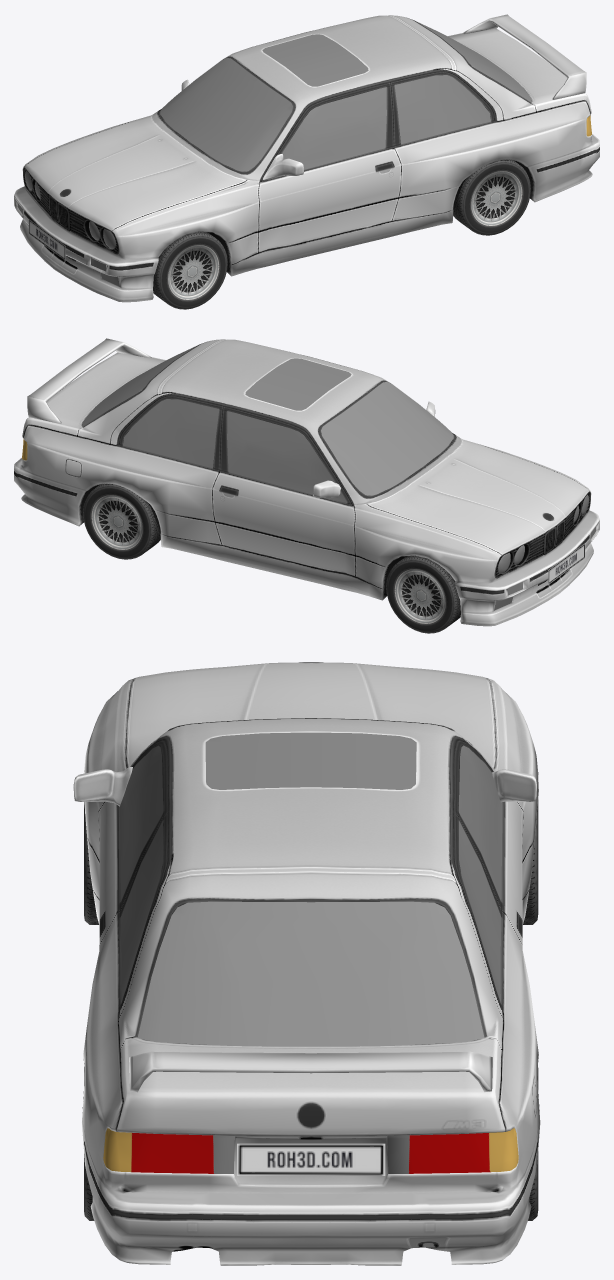
3 renders of one model, top to bottom at view 1: azimuth 30°, elevation 25°; view 2: azimuth 150°, elevation 25°; view 3: azimuth 270°, elevation 25°, orthographic. The views are drawn at different scales.
Visible parts, largest first — view 1: car_Body_Body, m_Glass, wheel0, wheel2; view 2: car_Body_Body, m_Glass, wheel1, wheel3; view 3: car_Body_Body, m_Glass, wheel1, wheel0.
Part boxes in pixels (bbox=[...]): car_Body_Body: bbox=[14, 14, 599, 302]; m_Glass: bbox=[17, 21, 591, 286]; wheel0: bbox=[153, 231, 227, 309]; wheel2: bbox=[453, 160, 530, 235]; car_Body_Body: bbox=[14, 338, 599, 626]; m_Glass: bbox=[22, 345, 596, 610]; wheel1: bbox=[386, 555, 460, 633]; wheel3: bbox=[83, 484, 160, 559]; car_Body_Body: bbox=[73, 662, 540, 1265]; m_Glass: bbox=[103, 732, 518, 1173]; wheel1: bbox=[523, 772, 538, 924]; wheel0: bbox=[84, 802, 98, 924].
Size of the model in its own units: 4.32 by 1.36 by 1.71.
Materials: 3 (3 with a texture image).
